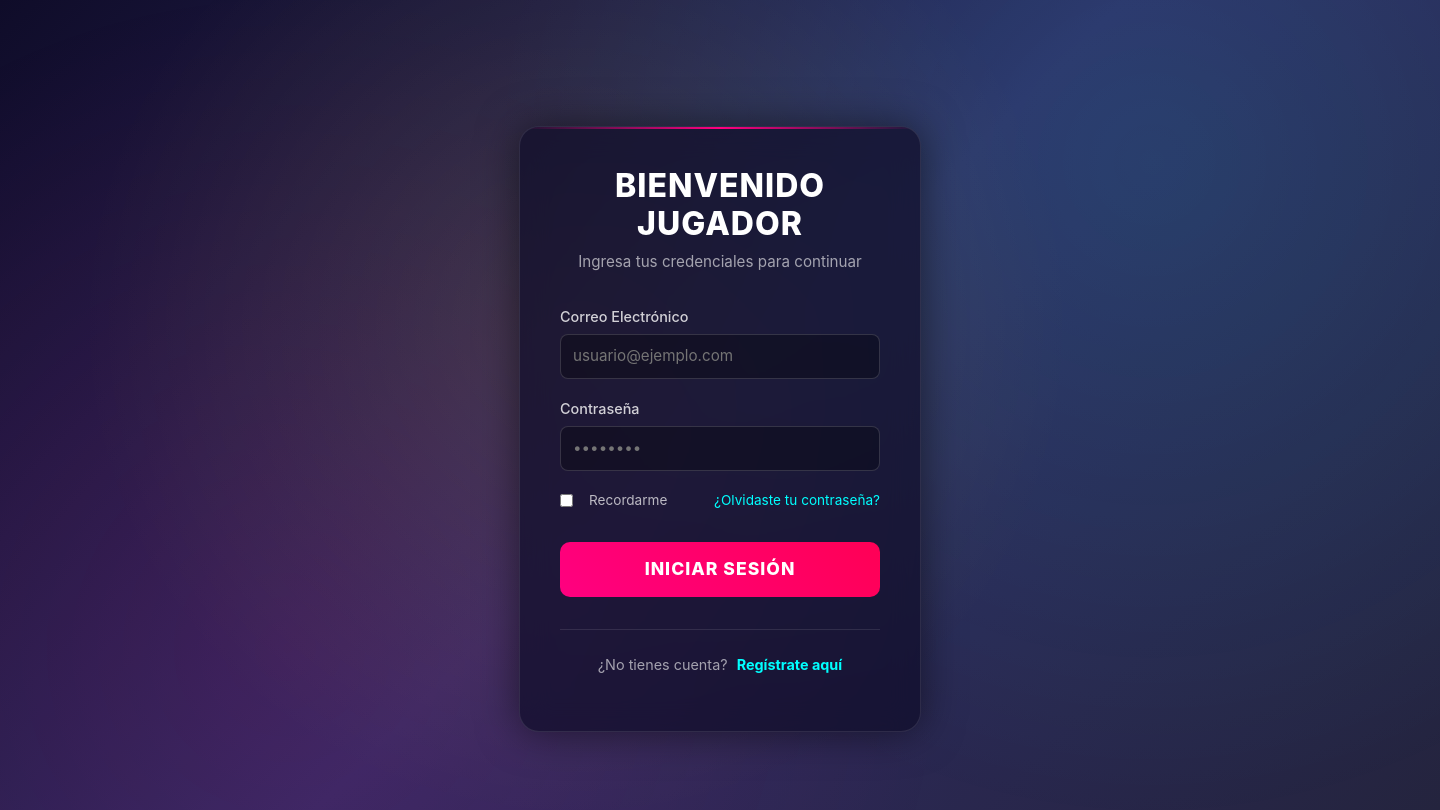
Scenario: Pruebas del Componente InicioSesion › Debe mostrar estado de carga
Click the button "INICIAR SESIÓN".
click(720, 570)  # box [560, 542, 880, 597]
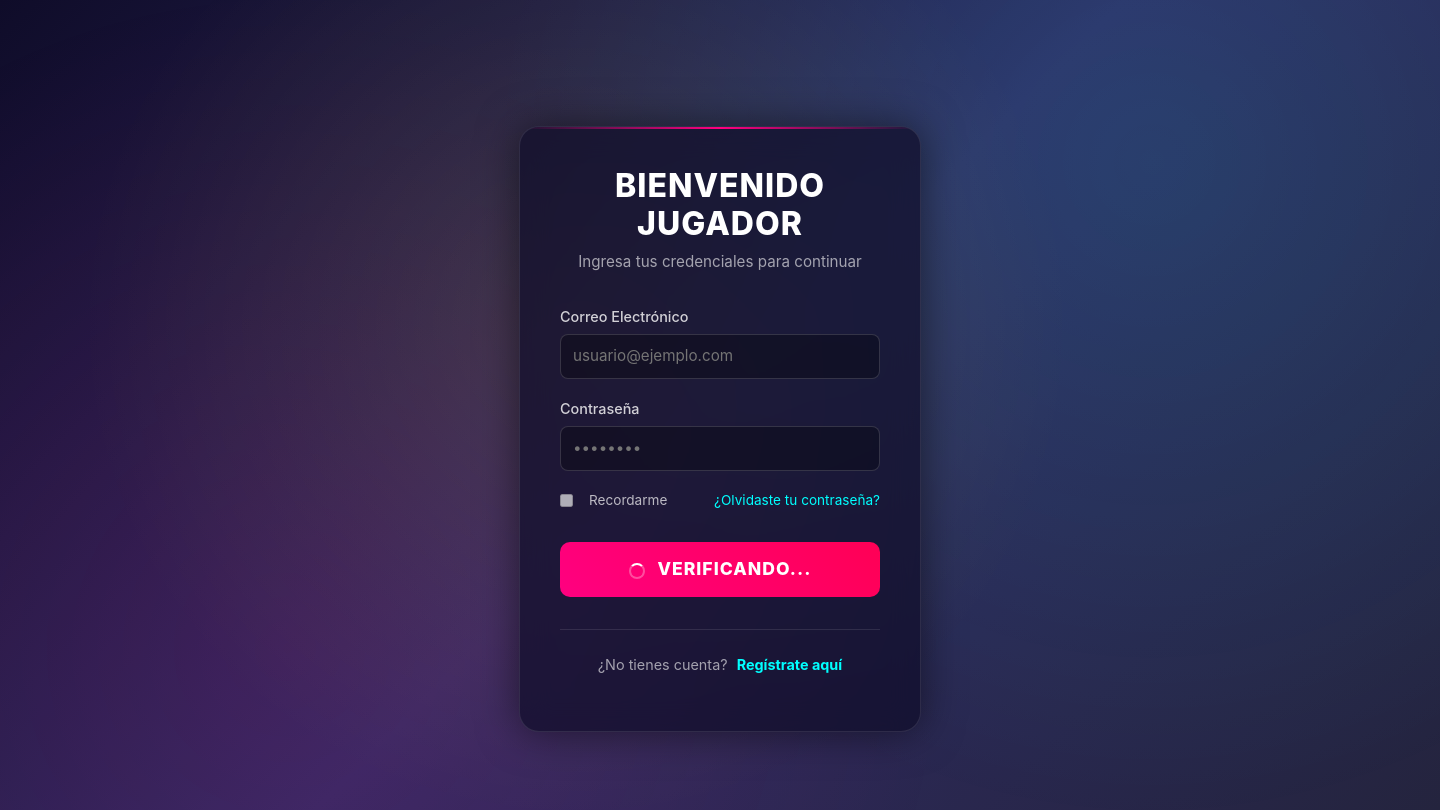
expect the button "Verificando..." is disabled: met, box [560, 542, 880, 597]
